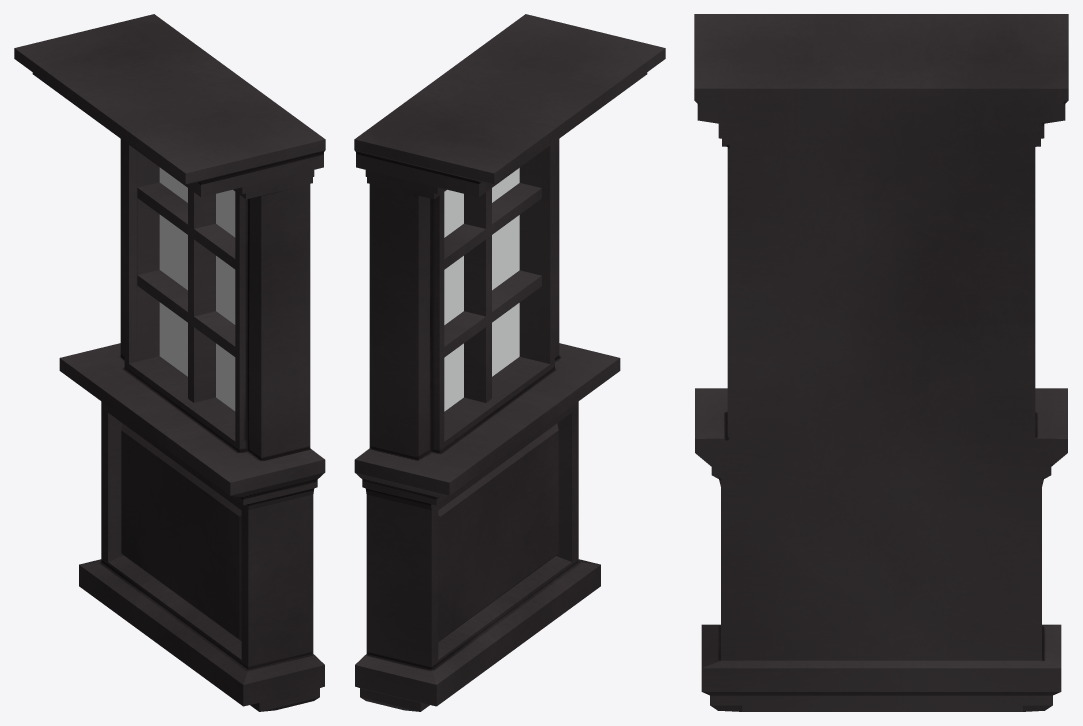
File: 1Fenster.fbx
3 views of the same model, side by side, from view 1: azimuth 30°, elevation 25°; view 2: azimuth 150°, elevation 25°; view 3: azimuth 270°, elevation 25° (orthographic). The views are drawn at different scales.
Visible parts, largest first — view 1: Alle_Fenster; view 2: Alle_Fenster; view 3: Alle_Fenster.
Part boxes in pixels (box(x1,y1,x2,y2)): Alle_Fenster: box(14, 14, 325, 711); Alle_Fenster: box(354, 14, 665, 711); Alle_Fenster: box(694, 14, 1068, 711).
Size of the model in its own units: 284 by 1081 by 590.
